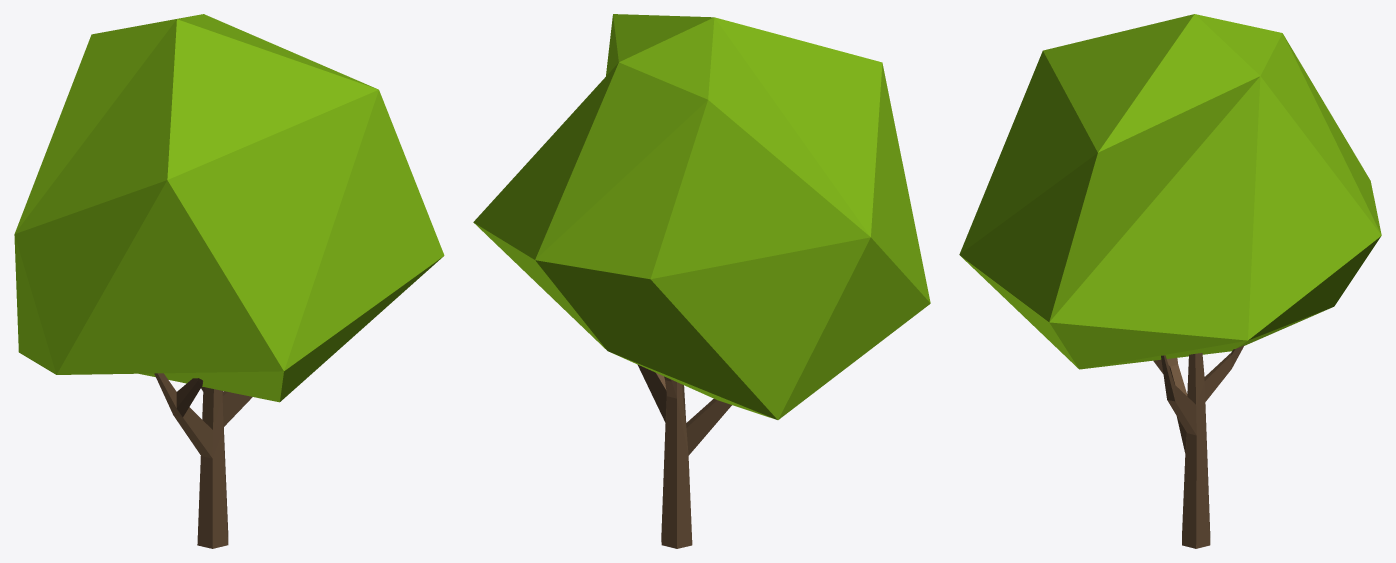
Rendered from Forest_001.fbx.
3 renders of one model, left to right at view 1: azimuth 30°, elevation 25°; view 2: azimuth 150°, elevation 25°; view 3: azimuth 270°, elevation 25°, orthographic. The views are drawn at different scales.
Visible parts, largest first — view 1: Forest_001; view 2: Forest_001; view 3: Forest_001.
Part boxes in pixels (x1,y1,x2,y2): Forest_001: (14, 14, 444, 548); Forest_001: (473, 14, 930, 548); Forest_001: (959, 14, 1381, 548).
Size of the model in its own units: 600 by 800 by 600.
